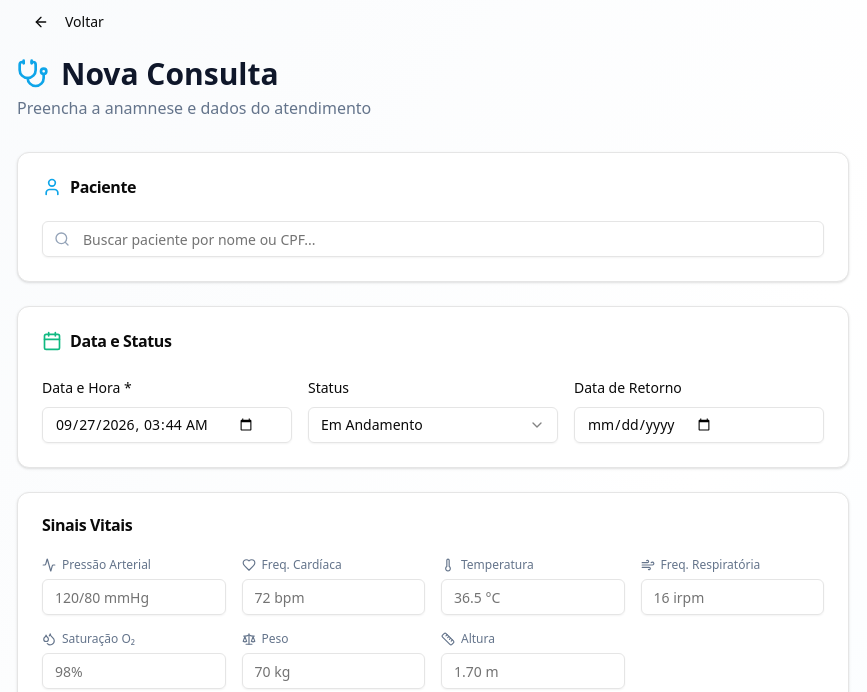
Test: active patient selection › offers the active patient and selects it into the form
Step 1. Type "Ana" into the field with placeholder "Buscar paciente por nome ou CPF..." → (433,239), box [42,221,824,257]
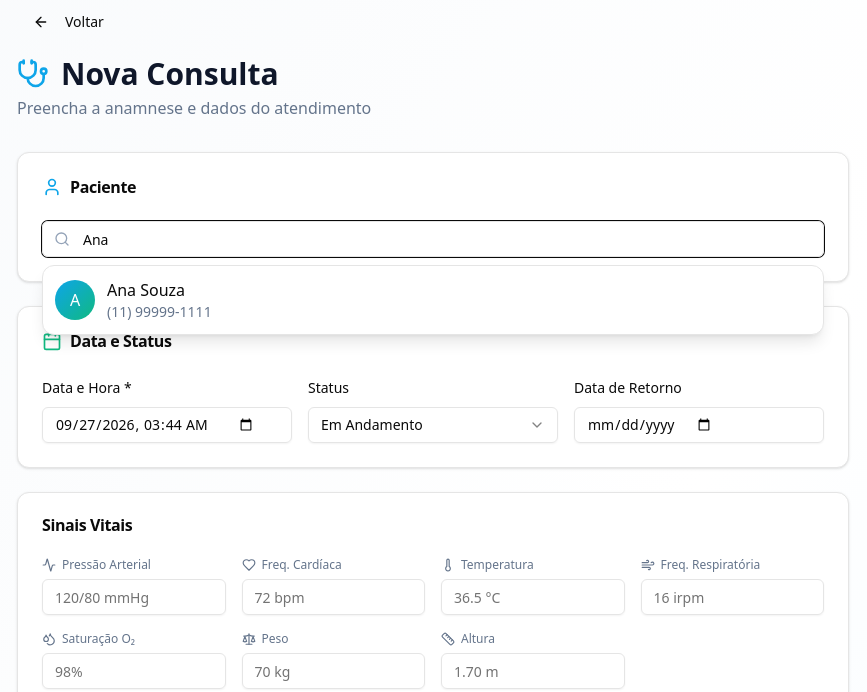
Step 2. Click the button "A Ana Souza (11) 99999-1111" → (75,300), box [43,266,823,334]
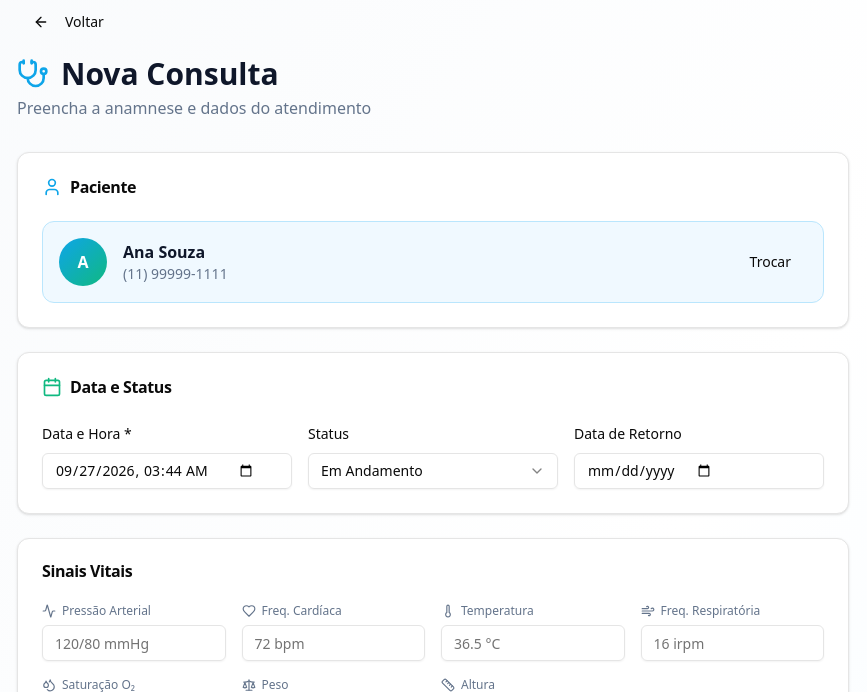
Check: the field with placeholder "Buscar paciente por nome ou CPF..." is not shown
Check: the text "Ana Souza" is shown, box [123,241,205,263]
Check: the button "Trocar" is shown, box [734,244,807,280]
